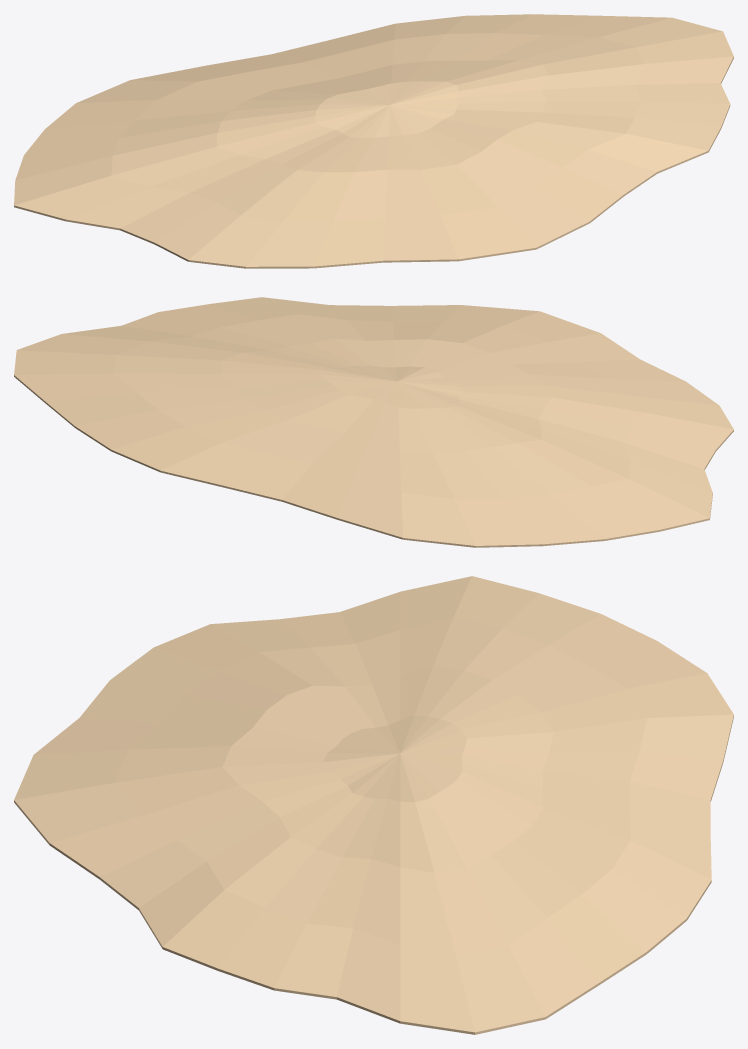
File: Kit_SandDrift.fbx
3 renders of one model, top to bottom at view 1: azimuth 30°, elevation 25°; view 2: azimuth 150°, elevation 25°; view 3: azimuth 270°, elevation 25°, orthographic. The views are drawn at different scales.
Parts seen in each view (by area): view 1: Kit_SandDrift; view 2: Kit_SandDrift; view 3: Kit_SandDrift.
Boxes of the visible parts, left/top/right/bottom form: Kit_SandDrift: left=14, top=14, right=733, bottom=268; Kit_SandDrift: left=14, top=297, right=733, bottom=547; Kit_SandDrift: left=14, top=576, right=733, bottom=1034.
Bounding box in the file's own units: 2.4 × 0.12 × 1.6.
